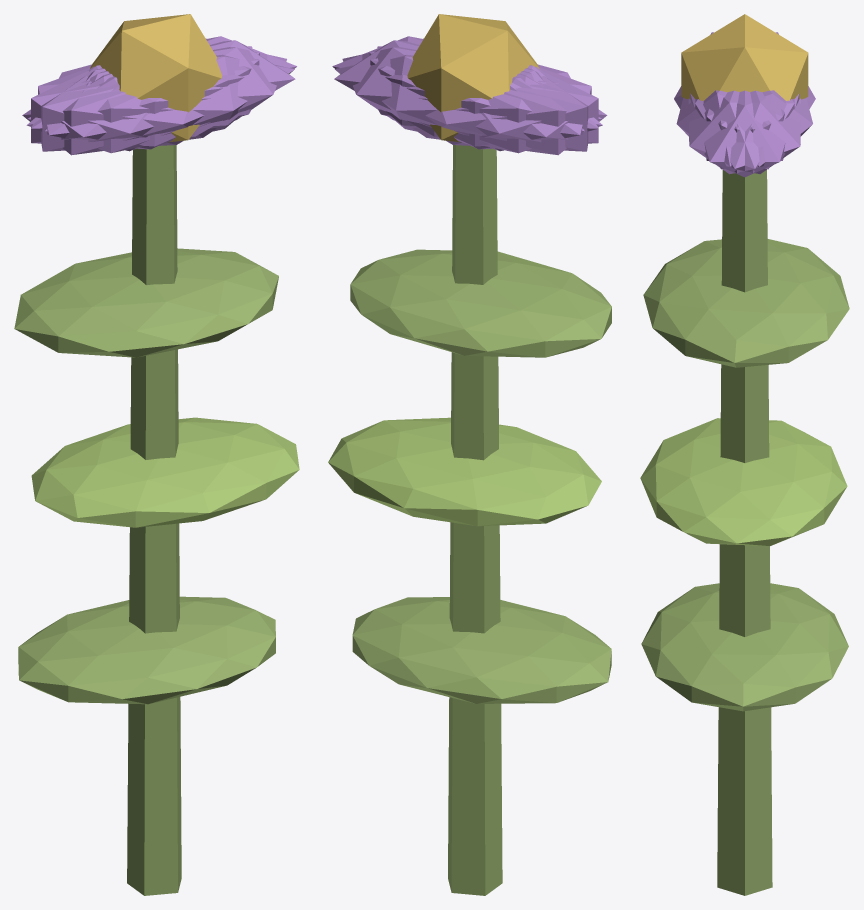
The model's file is ficus-carica.glb.
The picture shows the model from 3 angles, left to right: view 1: azimuth 30°, elevation 25°; view 2: azimuth 150°, elevation 25°; view 3: azimuth 270°, elevation 25°; orthographic projection.
Visible parts, largest first — view 1: stem, leaf1, leaf2, leaf0, center, petal1, petal6, petal2, petal5, petal7, petal0, petal4 (+2 smaller); view 2: stem, leaf2, leaf1, leaf0, center, petal8, petal3, petal7, petal4, petal2, petal0, petal5 (+2 smaller); view 3: stem, leaf1, leaf2, leaf0, center, petal0, petal5, petal4, petal8, petal1.
Part boxes in pixels (x1,y1,x2,y2): stem: [127, 145, 181, 895]; leaf1: [31, 417, 299, 527]; leaf2: [14, 248, 278, 357]; leaf0: [18, 596, 275, 704]; center: [90, 14, 222, 142]; petal1: [26, 54, 294, 153]; petal6: [22, 66, 216, 155]; petal2: [41, 46, 252, 151]; petal5: [45, 47, 286, 146]; petal7: [31, 52, 259, 149]; petal0: [90, 40, 295, 136]; petal4: [28, 36, 296, 128]; stem: [448, 145, 502, 895]; leaf2: [350, 249, 611, 357]; leaf1: [328, 417, 601, 526]; leaf0: [352, 597, 611, 703]; center: [407, 14, 539, 142]; petal8: [335, 54, 602, 153]; petal3: [413, 66, 607, 155]; petal7: [377, 46, 588, 151]; petal4: [342, 47, 584, 146]; petal2: [369, 52, 598, 149]; petal0: [334, 40, 539, 136]; petal5: [332, 36, 601, 128]; stem: [717, 170, 772, 895]; leaf1: [640, 418, 847, 546]; leaf2: [643, 239, 849, 367]; leaf0: [641, 583, 848, 711]; center: [681, 14, 808, 100]; petal0: [690, 90, 799, 177]; petal5: [688, 90, 794, 174]; petal4: [695, 90, 800, 173]; petal8: [704, 90, 812, 166]; petal1: [676, 90, 784, 166].
Size of the model in its own units: 0.1498 by 0.4532 by 0.1008.
